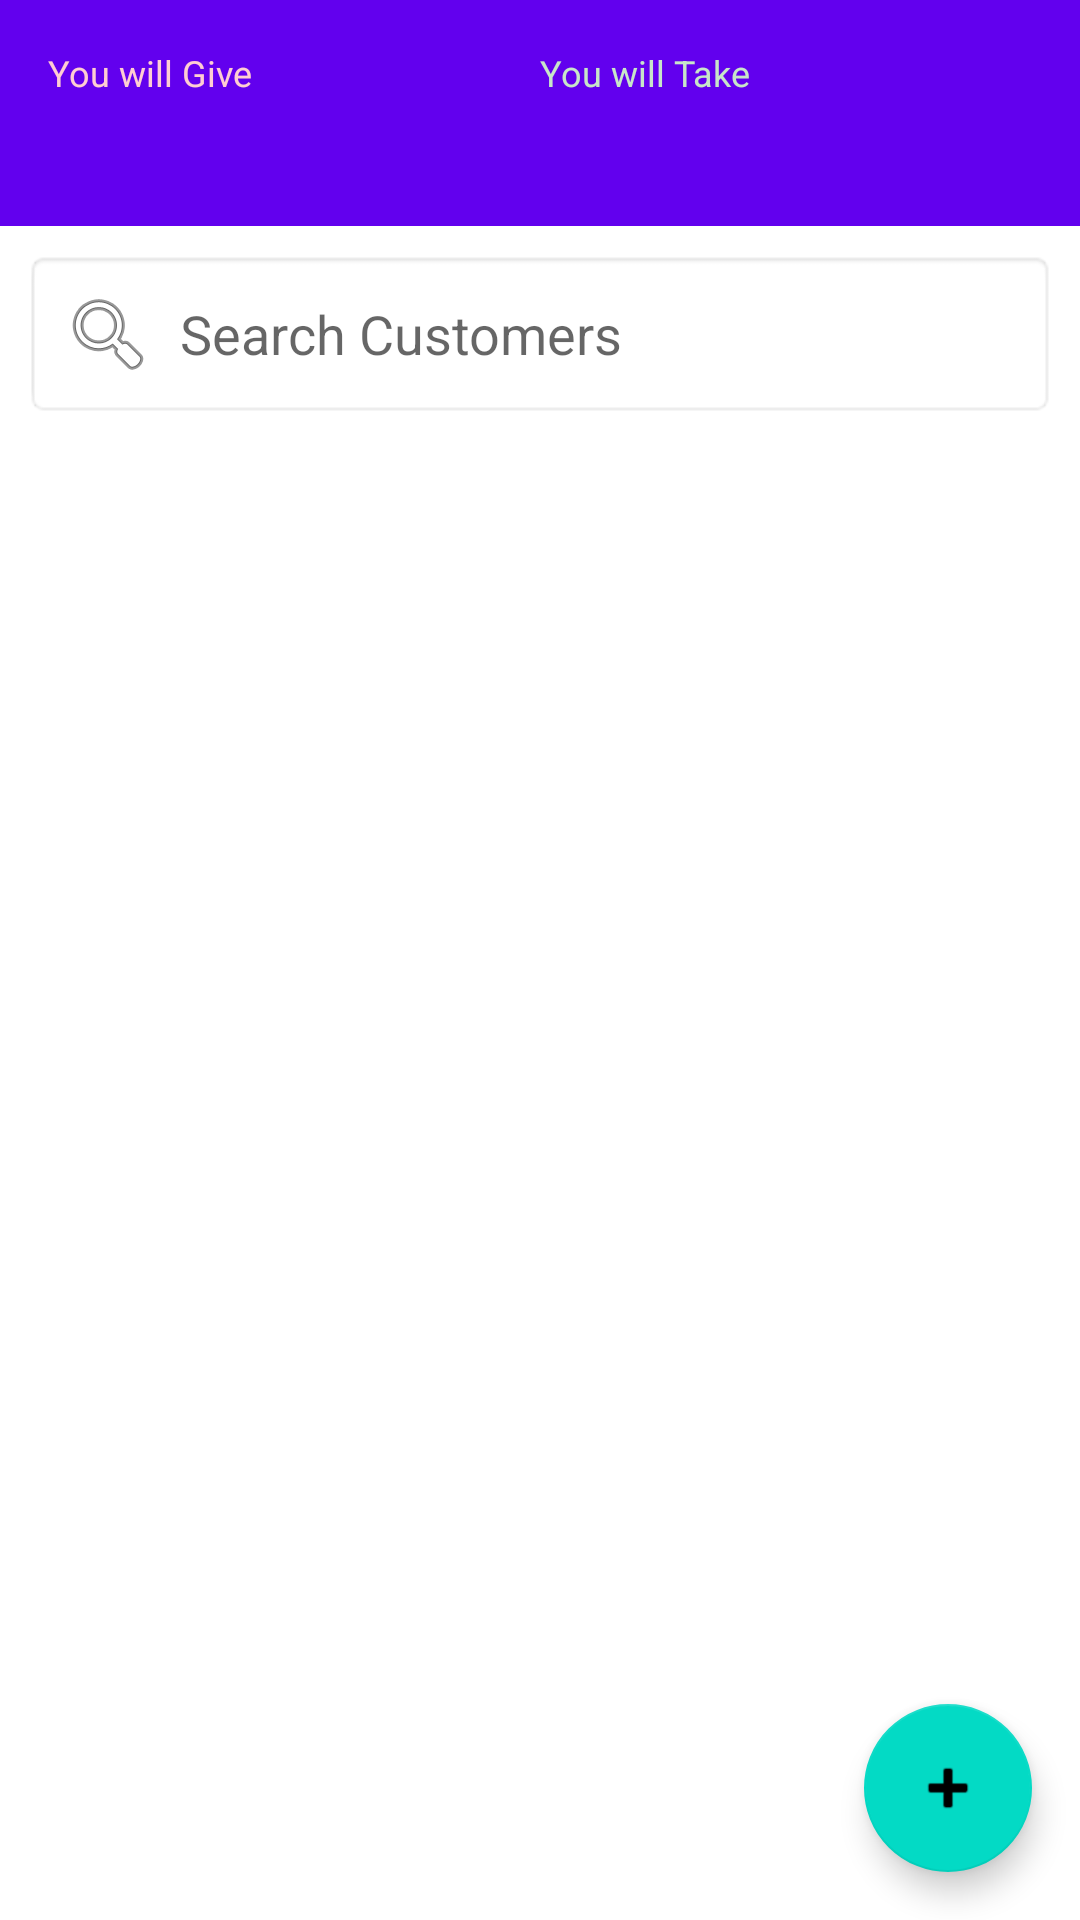

Where to tap for icons on this 1080w x 1920h app screen, as (x,y):
Add Customer: (948,1788)
